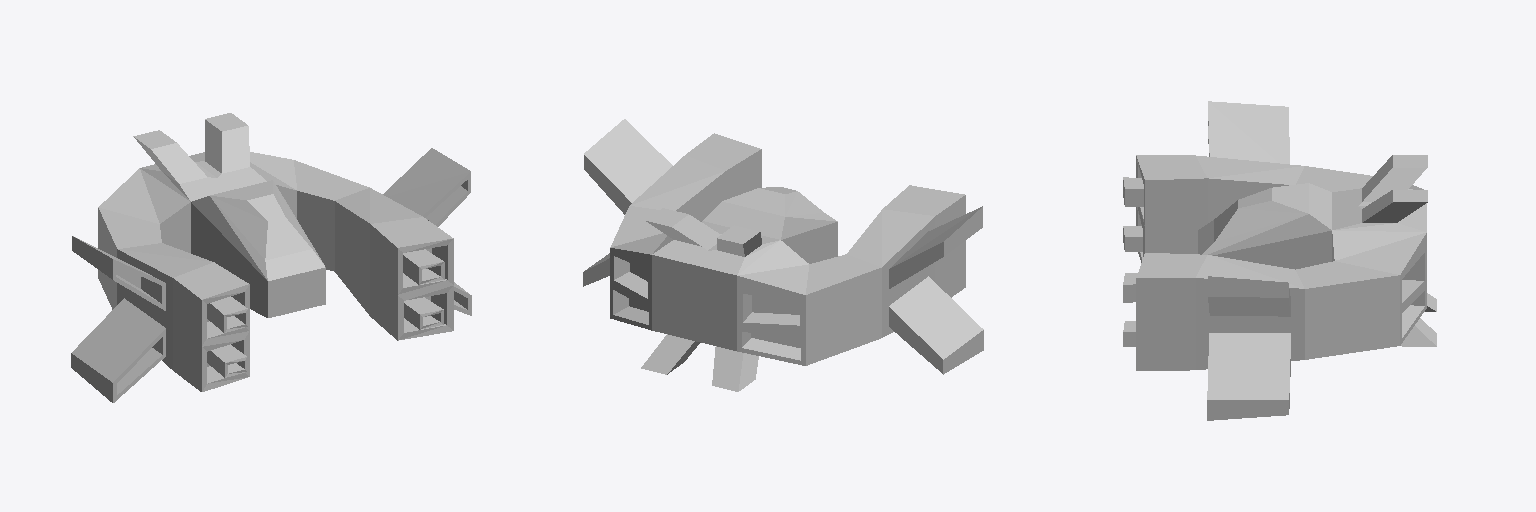
The model's file is RepTR-01Fighter.obj.
3 renders of one model, left to right at view 1: azimuth 30°, elevation 25°; view 2: azimuth 150°, elevation 25°; view 3: azimuth 270°, elevation 25°, orthographic.
Visible parts, largest first — view 1: Box005; view 2: Box005; view 3: Box005.
Boxes of the visible parts, x1,y1,x2,y2 form: Box005: [71, 113, 471, 402]; Box005: [583, 119, 983, 391]; Box005: [1123, 101, 1436, 420].
Bounding box in the file's own units: 233 × 95.53 × 176.